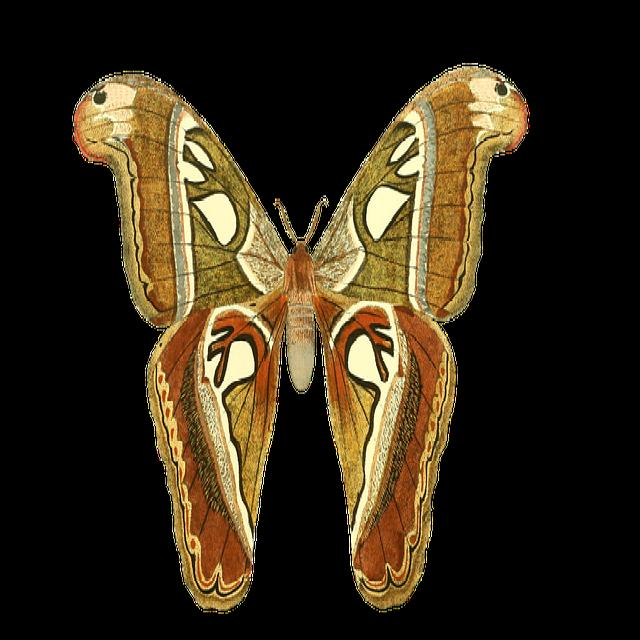butterfly: (74, 65, 528, 611)
